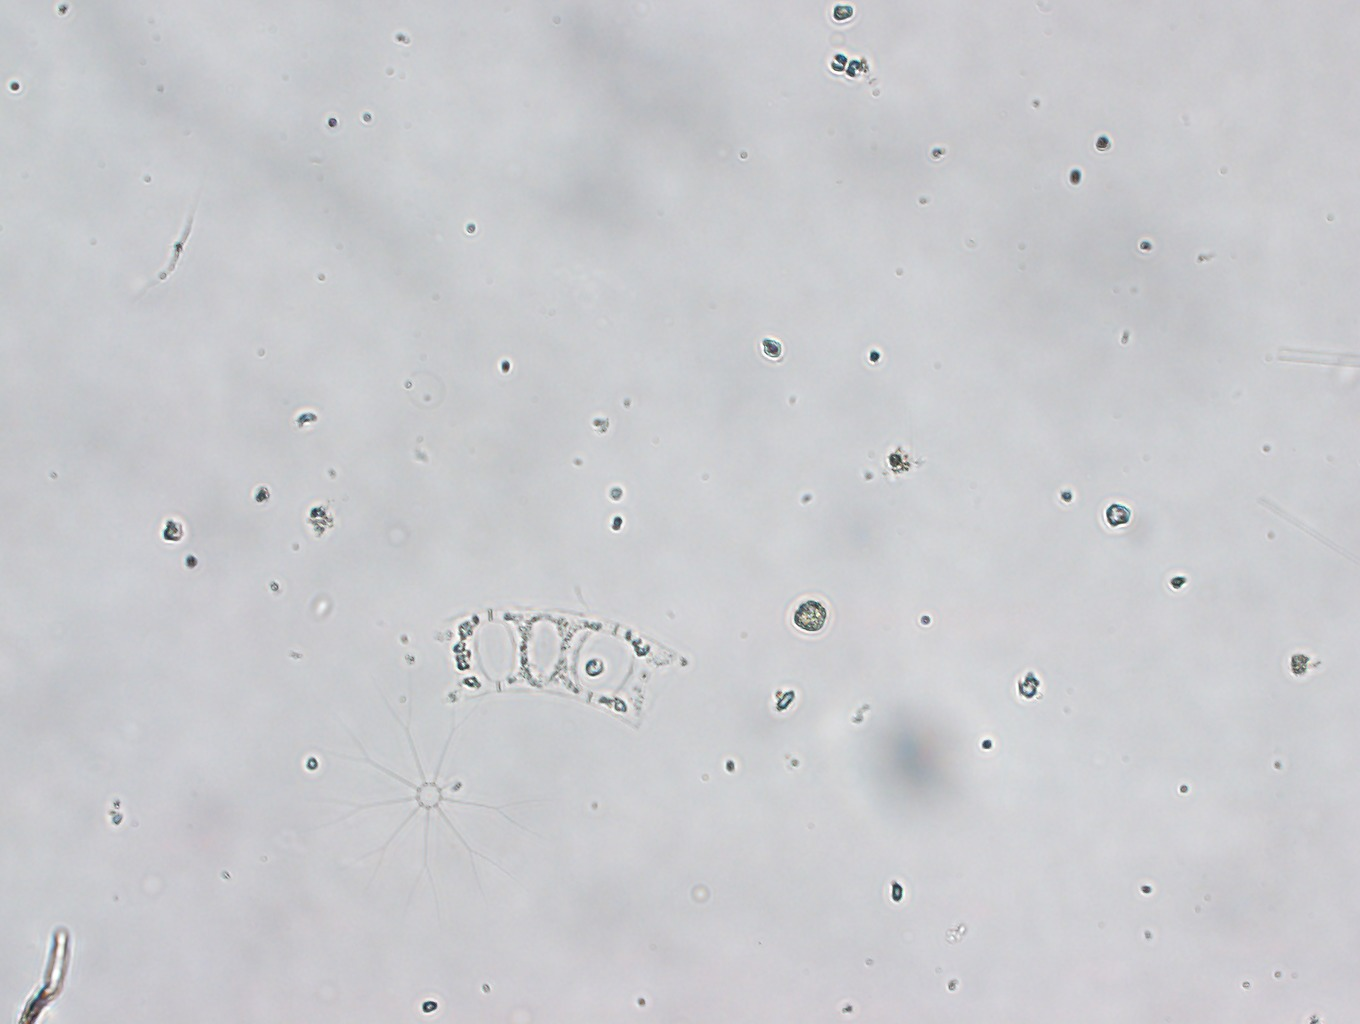bacteriastrum: (327, 684, 544, 912)
eucampia: (433, 594, 683, 729)
